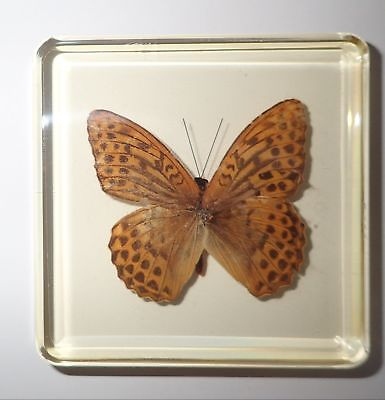Argyreus hyperbius: (78, 94, 309, 303)
butterfly: (80, 96, 311, 305)
